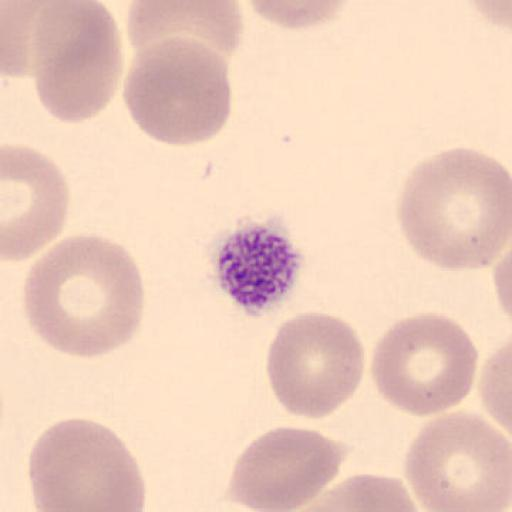Platelet: (208, 220, 306, 319)
RBC: (22, 231, 146, 359), (395, 144, 512, 272), (122, 35, 232, 147), (370, 310, 479, 418), (30, 0, 124, 124), (264, 309, 366, 422), (28, 416, 147, 512), (402, 409, 512, 512), (226, 426, 350, 512), (125, 0, 245, 76), (2, 142, 71, 263), (282, 472, 420, 512), (1, 0, 52, 80), (243, 0, 352, 32), (478, 339, 512, 441), (0, 0, 36, 80), (459, 0, 512, 31), (492, 248, 512, 320)
